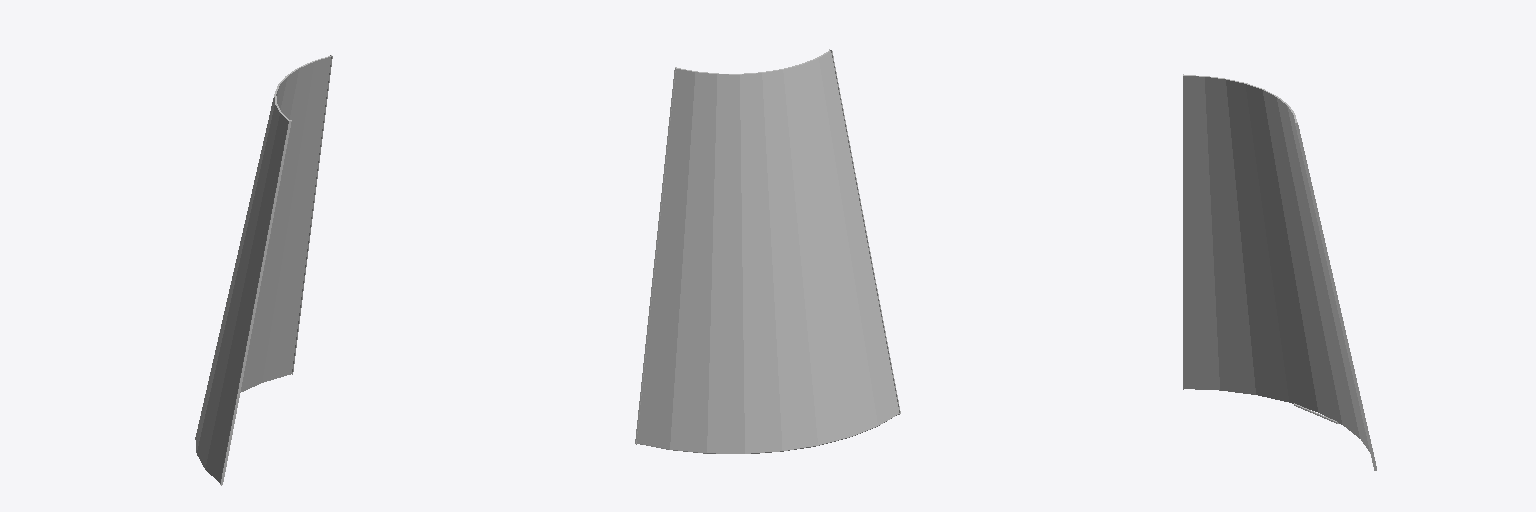
Rendered from Saturn V_4_4.obj.
3 renders of one model, left to right at view 1: azimuth 30°, elevation 25°; view 2: azimuth 150°, elevation 25°; view 3: azimuth 270°, elevation 25°, orthographic.
Visible parts, largest first — view 1: LEM_Fairing.002_Cylinder.018; view 2: LEM_Fairing.002_Cylinder.018; view 3: LEM_Fairing.002_Cylinder.018.
Boxes of the visible parts, box(x1,y1,x2,y2) form: LEM_Fairing.002_Cylinder.018: box(195, 55, 332, 485); LEM_Fairing.002_Cylinder.018: box(635, 49, 900, 453); LEM_Fairing.002_Cylinder.018: box(1183, 74, 1376, 470).
Bounding box in the file's own units: 3.31 × 6.54 × 3.31.